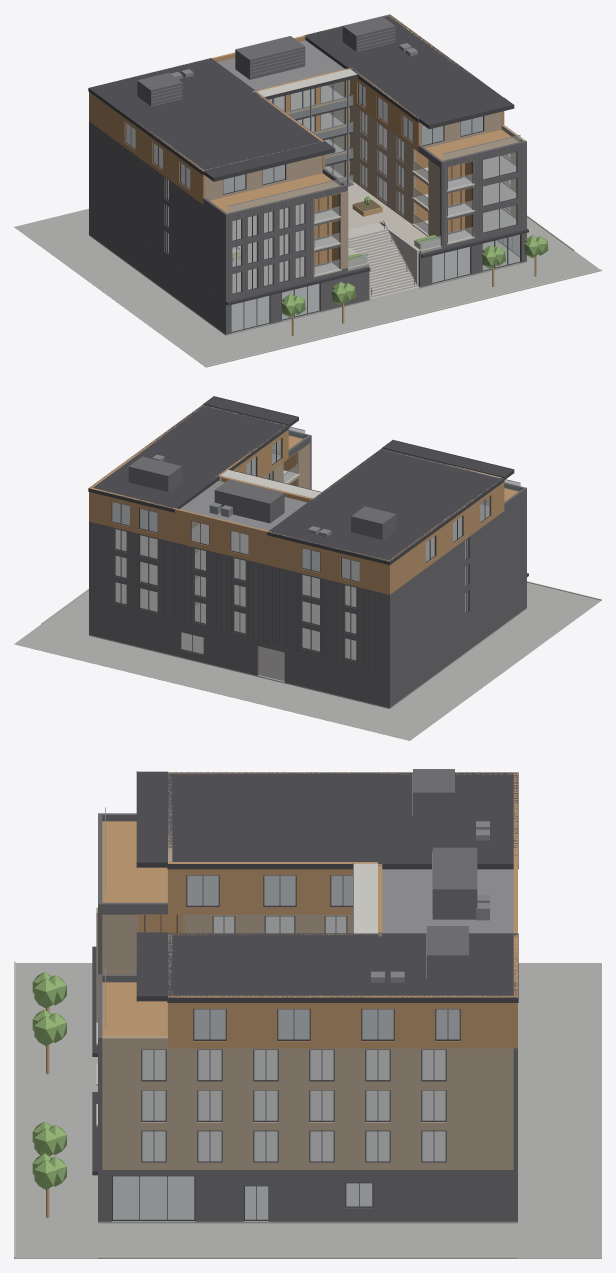
File: clay-courtyard-mixed-use-midrise-clay-v009.glb
3 views of the same model, one above another, from view 1: azimuth 30°, elevation 25°; view 2: azimuth 150°, elevation 25°; view 3: azimuth 270°, elevation 25° (orthographic). The views are drawn at different scales.
Parts seen in each view (by area): view 1: CLAY_WALL, CLAY_TRIM, CLAY_FOUNDATION, CLAY_GLASS, CLAY_CEDAR, CLAY_TAN, CLAY_FLOOR, CLAY_CONCRETE, CLAY_MEMBRANE, CLAY_HARDWARE, CLAY_PLANTING, CLAY_SAND (+4 smaller); view 2: CLAY_WALL, CLAY_TRIM, CLAY_FOUNDATION, CLAY_CEDAR, CLAY_GLASS, CLAY_FLOOR, CLAY_MEMBRANE, CLAY_JOINT, CLAY_PALE, CLAY_TAN, CLAY_HARDWARE; view 3: CLAY_TRIM, CLAY_FOUNDATION, CLAY_TAN, CLAY_CEDAR, CLAY_WALL, CLAY_GLASS, CLAY_FLOOR, CLAY_MEMBRANE, CLAY_PLANTING, CLAY_STONE, CLAY_PALE, CLAY_HARDWARE.
Boxes of the visible parts, x1,y1,x2,y2 form: CLAY_WALL: (89,16,526,334); CLAY_TRIM: (88,14,528,332); CLAY_FOUNDATION: (14,207,600,367); CLAY_GLASS: (126,81,520,331); CLAY_CEDAR: (89,14,517,275); CLAY_TAN: (204,68,525,269); CLAY_FLOOR: (166,85,516,293); CLAY_CONCRETE: (313,167,474,300); CLAY_MEMBRANE: (127,40,508,193); CLAY_HARDWARE: (152,29,520,295); CLAY_PLANTING: (281,196,548,317); CLAY_SAND: (348,180,440,268); CLAY_WALL: (89,430,526,707); CLAY_TRIM: (88,396,528,661); CLAY_FOUNDATION: (14,582,600,740); CLAY_CEDAR: (89,405,518,594); CLAY_GLASS: (112,427,520,659); CLAY_FLOOR: (115,476,467,659); CLAY_MEMBRANE: (112,453,488,581); CLAY_JOINT: (90,523,382,671); CLAY_PALE: (220,469,321,681); CLAY_TAN: (191,406,501,606); CLAY_HARDWARE: (152,426,520,537); CLAY_TRIM: (92,771,518,1220); CLAY_FOUNDATION: (14,963,601,1258); CLAY_TAN: (96,776,513,1169); CLAY_CEDAR: (102,772,517,1048); CLAY_WALL: (98,769,517,1221); CLAY_GLASS: (105,875,459,1219); CLAY_FLOOR: (142,916,445,1161); CLAY_MEMBRANE: (102,821,513,1039); CLAY_PLANTING: (32,972,66,1189); CLAY_STONE: (14,961,517,1258); CLAY_PALE: (353,863,377,933); CLAY_HARDWARE: (105,773,489,1026).
Bounding box in the file's own units: 50 × 19.72 × 42.
